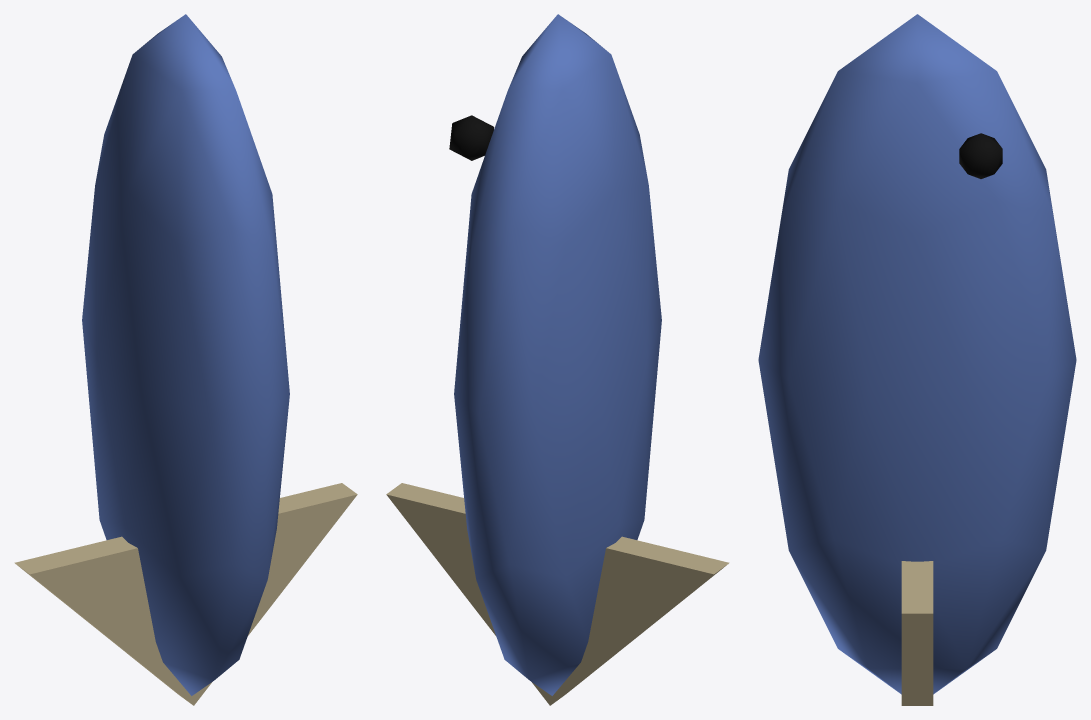
File: harpyfish.glb
The picture shows the model from 3 angles, left to right: view 1: azimuth 30°, elevation 25°; view 2: azimuth 150°, elevation 25°; view 3: azimuth 270°, elevation 25°; orthographic projection.
Parts seen in each view (by area): view 1: harpyfish_v0; view 2: harpyfish_v0; view 3: harpyfish_v0.
Boxes of the visible parts, x1=… form: harpyfish_v0: x1=14, y1=14, x2=357, y2=705; harpyfish_v0: x1=386, y1=14, x2=729, y2=705; harpyfish_v0: x1=758, y1=14, x2=1076, y2=705.
Bounding box in the file's own units: 0.12 × 0.24 × 0.1.
